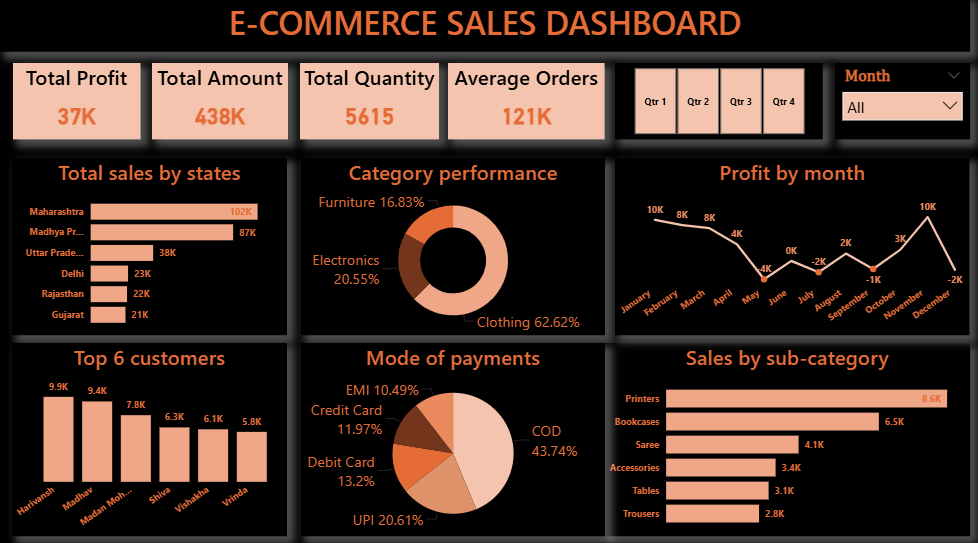

This screenshot's page, from the dashboard's own definition file:
{"tool":"powerbi","page":{"name":"E-commerce sales","canvas":[1280,720],"ordinal":0},"visuals":[{"type":"textbox","box":[0,0,1269.6,73.5],"z":0},{"type":"card","title":"Total Profit","fields":{"Values":["Sum(Details.Profit)"]},"box":[16.7,88.3,166.7,100],"z":1000},{"type":"card","title":"Total Amount","fields":{"Values":["Sum(Details.Amount)"]},"box":[198.4,88.2,177.8,99.9],"z":2000},{"type":"card","title":"Total Quantity","fields":{"Values":["Sum(Details.Quantity)"]},"box":[393.3,88.3,181.7,100],"z":3000},{"type":"card","title":"Average Orders","fields":{"Values":["Sum(Details.AOV)"]},"box":[586.7,88.3,205,100],"z":4000},{"type":"barChart","title":"Total sales by states","fields":{"Y":["Sum(Details.Amount)"],"Category":["Orders.State"]},"box":[16.2,211.6,360,232.2],"z":5000},{"type":"donutChart","title":"Category performance","fields":{"Category":["Details.Category"],"Y":["Sum(Details.Quantity)"]},"box":[393.8,211.6,398.2,232.2],"z":6000},{"type":"clusteredBarChart","title":"Sales by sub-category","fields":{"Y":["Sum(Details.Profit)"],"Category":["Details.Sub-Category"]},"box":[792,454,477.6,252.7],"z":7000},{"type":"columnChart","title":"Top 6 customers","fields":{"Category":["Orders.CustomerName"],"Y":["Sum(Details.Amount)"]},"box":[16.2,454,360,252.7],"z":8000},{"type":"pieChart","title":"Mode of payments","fields":{"Category":["Details.PaymentMode"],"Y":["Sum(Details.Quantity)"]},"box":[393.8,454,398.2,252.7],"z":9000},{"type":"lineChart","title":"Profit by month","fields":{"Category":["Orders.Order Date.Variation.Date Hierarchy.Month"],"Y":["Sum(Details.Profit)"]},"box":[805.2,211.6,464.3,232.2],"z":10000},{"type":"slicer","fields":{"Values":["Orders.Order Date.Variation.Date Hierarchy.Quarter"]},"box":[805.2,88.2,271.8,99.9],"z":11000},{"type":"slicer","fields":{"Values":["Orders.Order Date.Variation.Date Hierarchy.Month"]},"box":[1093.3,88.3,176.7,100],"z":13000}]}

Visuals, with their boxes in screenshot pixels (x1, y1, x2, y2), scaled from the page's 1280x720 canvas onto the 978x543 screenshot:
textbox: 0 0 970 55
"Total Profit" card: 13 67 140 142
"Total Amount" card: 152 67 287 142
"Total Quantity" card: 301 67 439 142
"Average Orders" card: 448 67 605 142
"Total sales by states" barChart: 12 160 287 335
"Category performance" donutChart: 301 160 605 335
"Sales by sub-category" clusteredBarChart: 605 342 970 533
"Top 6 customers" columnChart: 12 342 287 533
"Mode of payments" pieChart: 301 342 605 533
"Profit by month" lineChart: 615 160 970 335
slicer - Orders.Order Date.Variation.Date Hierarchy.Quarter: 615 67 823 142
slicer - Orders.Order Date.Variation.Date Hierarchy.Month: 835 67 970 142
